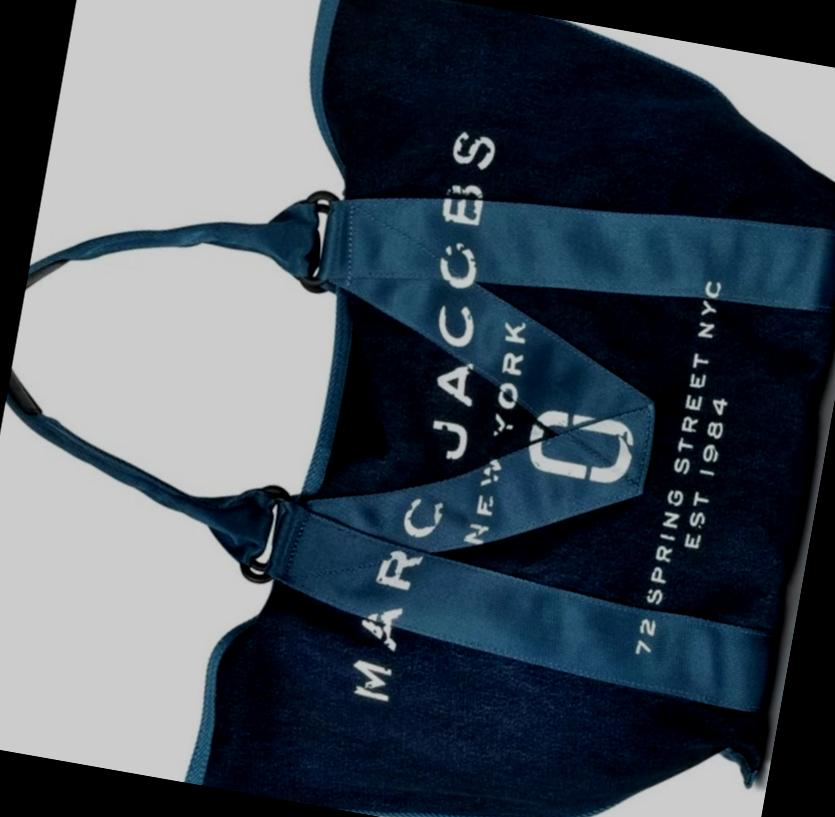MARC-JACOBS: (347, 128, 519, 707)
